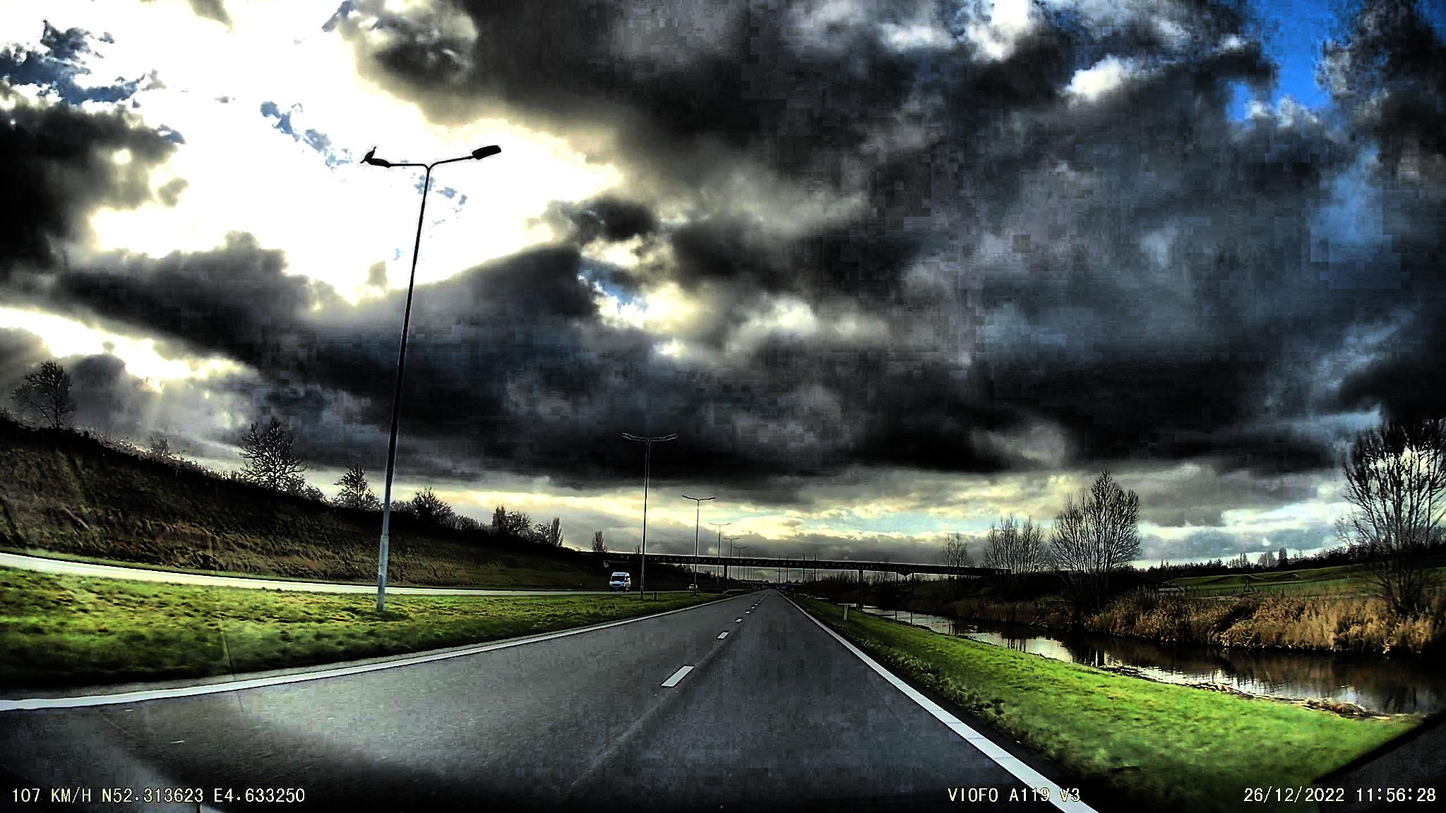Roads: (0, 586, 1104, 813)
